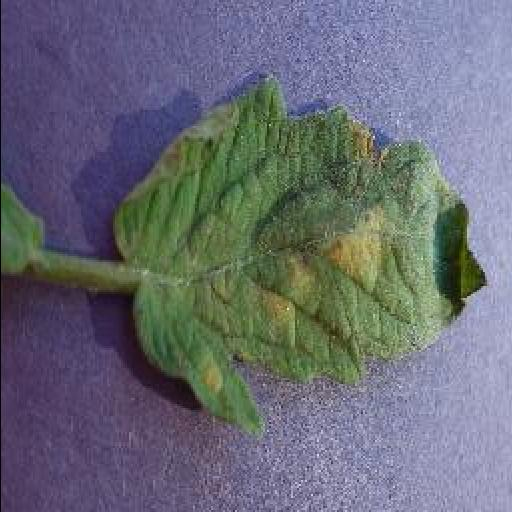disease_tomato: (111, 68, 489, 436)
